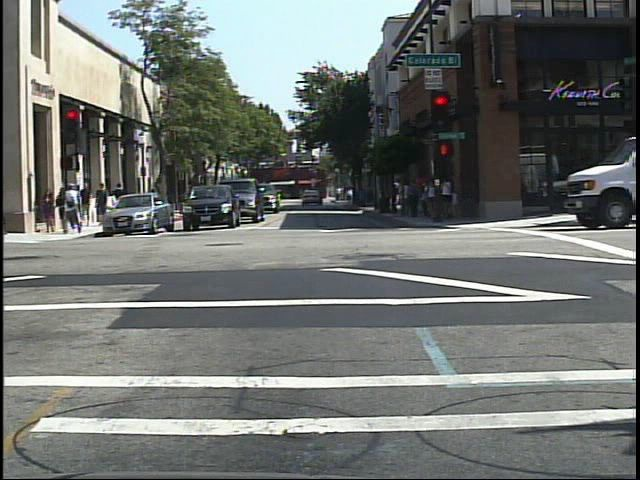person: (60, 181, 83, 239)
